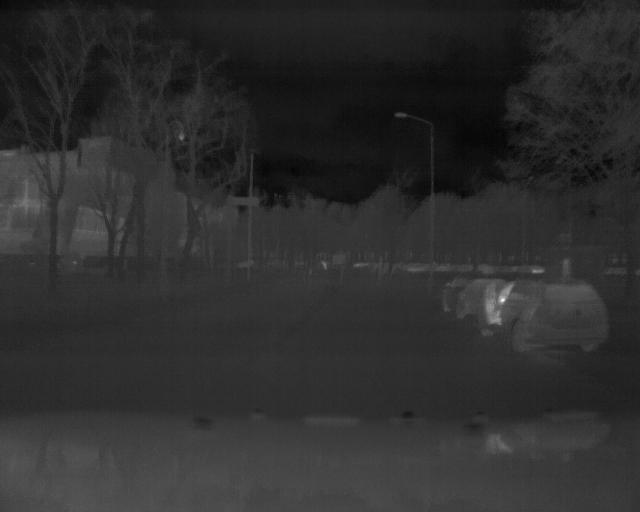car: (477, 283, 612, 351), (429, 265, 519, 332)
